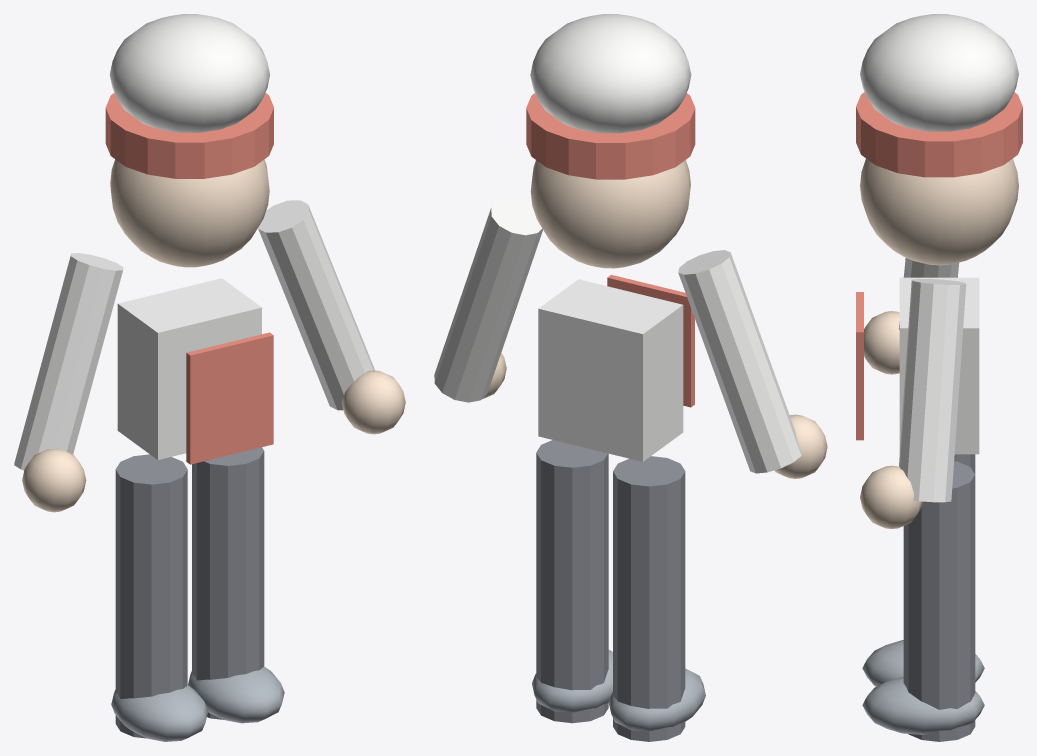
File: SK_Chef.glb
The picture shows the model from 3 angles, left to right: view 1: azimuth 30°, elevation 25°; view 2: azimuth 150°, elevation 25°; view 3: azimuth 270°, elevation 25°; orthographic projection.
Visible parts, largest first — view 1: SK_Chef; view 2: SK_Chef; view 3: SK_Chef.
Part boxes in pixels (x1,y1,x2,y2): SK_Chef: (14, 14, 405, 741); SK_Chef: (434, 14, 827, 741); SK_Chef: (856, 14, 1022, 741).
Bounding box in the file's own units: 1.08 × 1.91 × 0.42.
